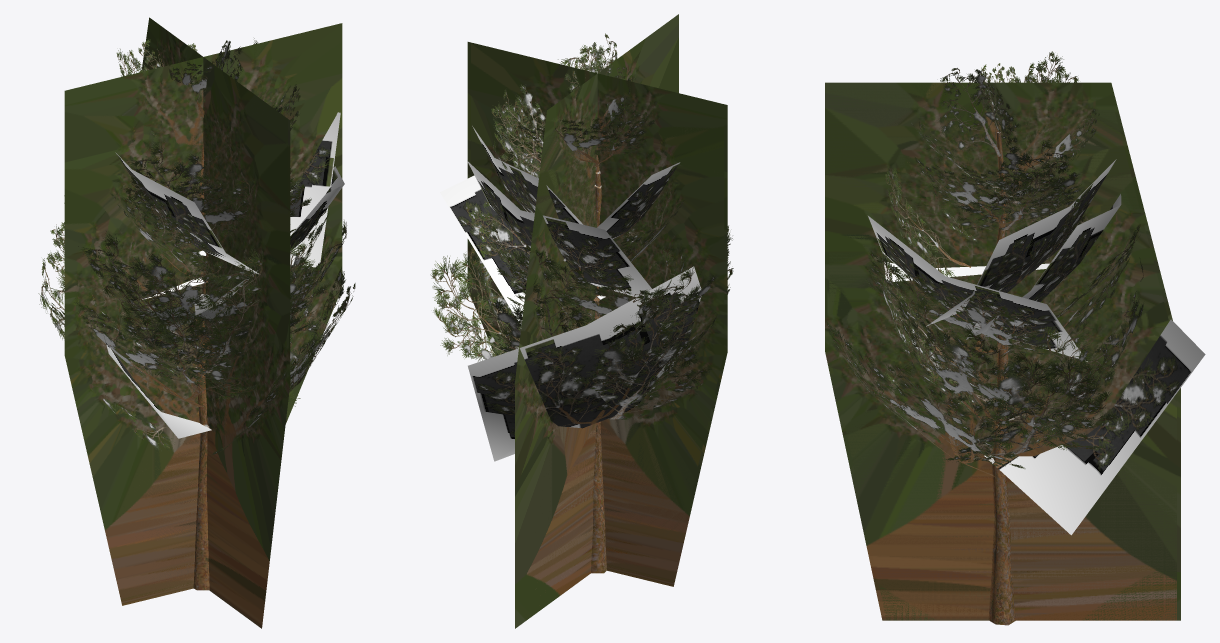
Rendered from Pine_bush2.fbx.
The picture shows the model from 3 angles, left to right: view 1: azimuth 30°, elevation 25°; view 2: azimuth 150°, elevation 25°; view 3: azimuth 270°, elevation 25°; orthographic projection. The views are drawn at different scales.
Parts seen in each view (by area): view 1: Billboard, LOD0; view 2: Billboard, LOD0; view 3: Billboard, LOD0.
Part boxes in pixels (x1=…): Billboard: x1=64, y1=17, x2=342, y2=628; LOD0: x1=38, y1=38, x2=355, y2=590; Billboard: x1=467, y1=14, x2=727, y2=628; LOD0: x1=430, y1=33, x2=733, y2=573; Billboard: x1=825, y1=82, x2=1180, y2=620; LOD0: x1=826, y1=51, x2=1205, y2=625.
Size of what is drawn, in the model's own units: 180 by 289 by 185.
